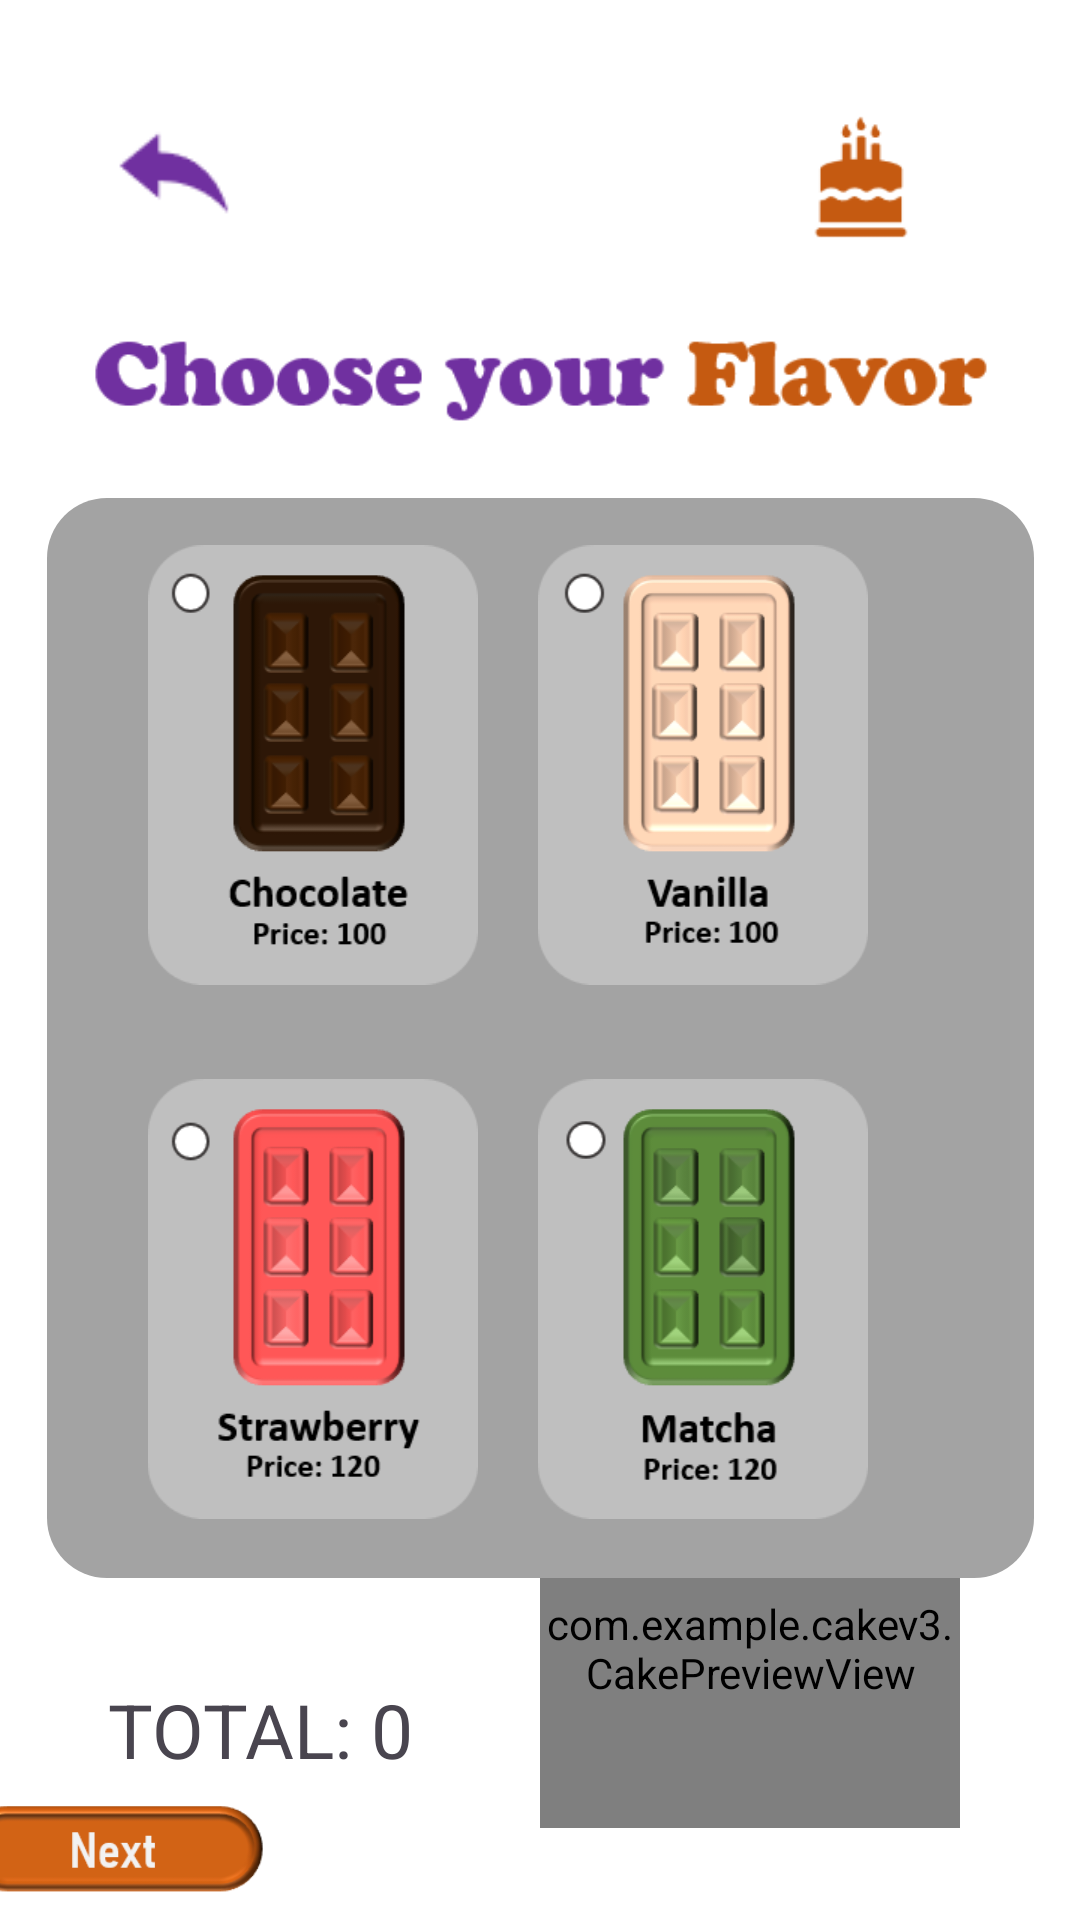

Where icons sit on this 1080px×1920px app screen, as (x1, y1, x2, y2):
back: (119, 134, 229, 213)
